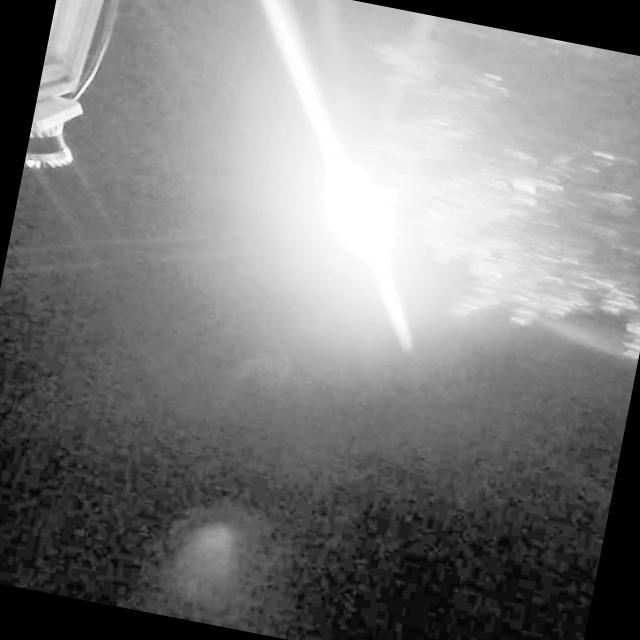Light: (312, 158, 417, 264)
